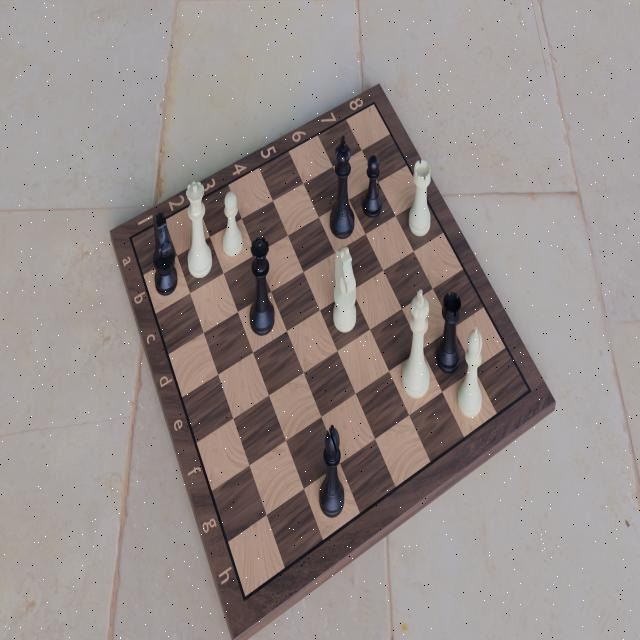black-bishop: (319, 418, 347, 522)
black-king: (328, 134, 356, 246)
black-knight: (151, 209, 181, 299)
black-pawn: (359, 149, 386, 224)
black-queen: (246, 232, 278, 340)
black-rook: (434, 290, 464, 376)
white-bishop: (455, 326, 485, 426)
white-king: (400, 284, 431, 403)
white-knight: (329, 243, 361, 337)
white-pawn: (220, 187, 247, 261)
white-queen: (184, 180, 216, 283)
white-rook: (406, 153, 433, 243)
